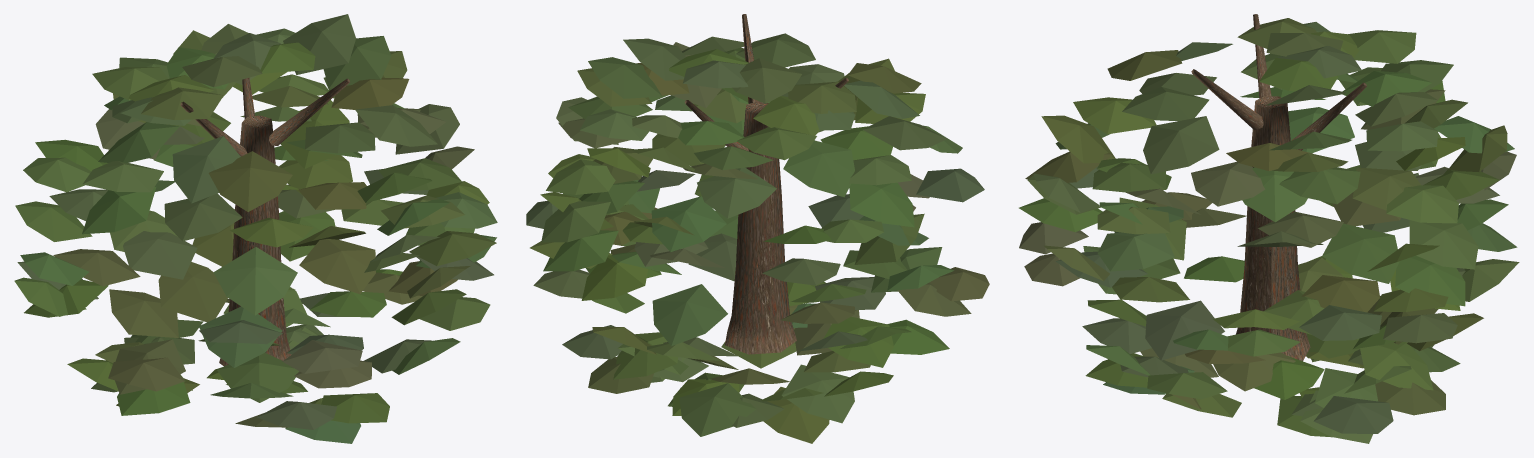
The model's file is valley-broadleaf-cr1.glb.
3 renders of one model, left to right at view 1: azimuth 30°, elevation 25°; view 2: azimuth 150°, elevation 25°; view 3: azimuth 270°, elevation 25°, orthographic. The views are drawn at different scales.
Parts seen in each view (by area): view 1: BroadleafCanopy, BroadleafTrunk; view 2: BroadleafCanopy, BroadleafTrunk; view 3: BroadleafCanopy, BroadleafTrunk.
Boxes of the visible parts, <box> form: BroadleafCanopy: <box>14,14,497,443</box>; BroadleafTrunk: <box>180,77,350,366</box>; BroadleafCanopy: <box>526,33,989,443</box>; BroadleafTrunk: <box>684,14,848,354</box>; BroadleafCanopy: <box>1019,18,1519,443</box>; BroadleafTrunk: <box>1191,14,1366,361</box>.
Size of the model in its own units: 5.55 by 4.46 by 5.48.
Materials: 2 (1 with a texture image).
